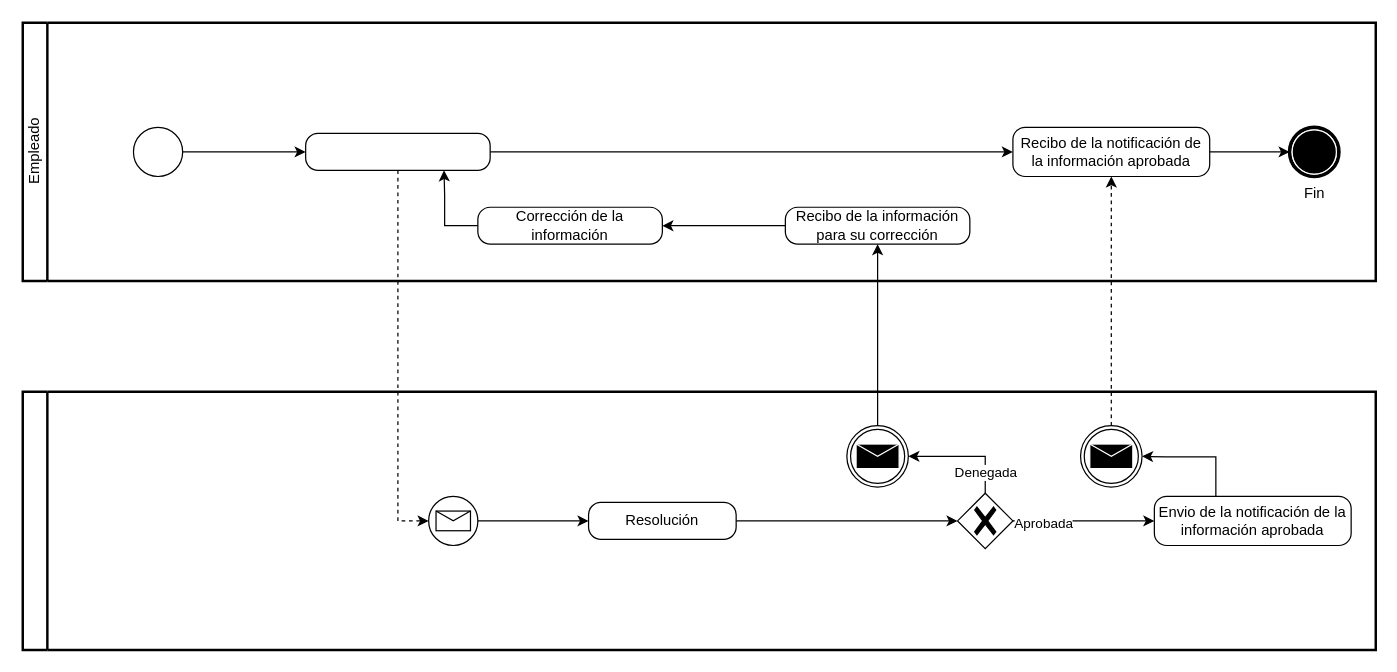
The diagram is 1397 pixels wide and 672 high, and some of its shapes have lost their labels. Here are the shapes that lost their labels. From the top down, the box of each, then its label:
(132, 126, 183, 177): Revisar información
(304, 132, 490, 170): Envio de la información
(21, 390, 1376, 651): Gerente
(956, 492, 1013, 549): Evaluación de la información
